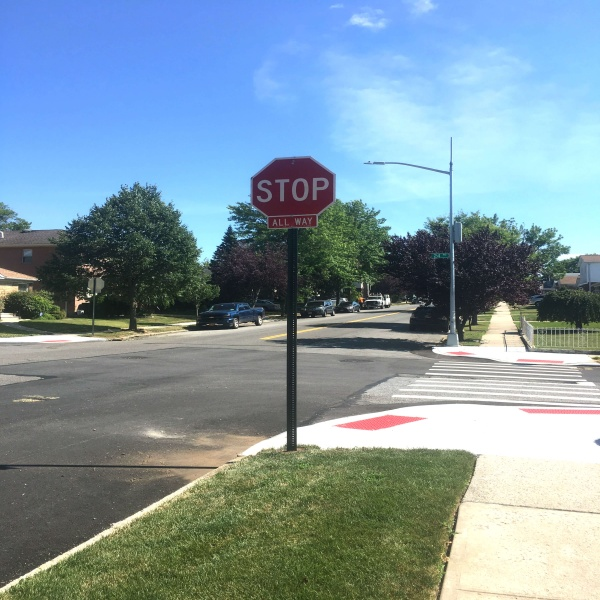stop: (252, 158, 342, 215)
